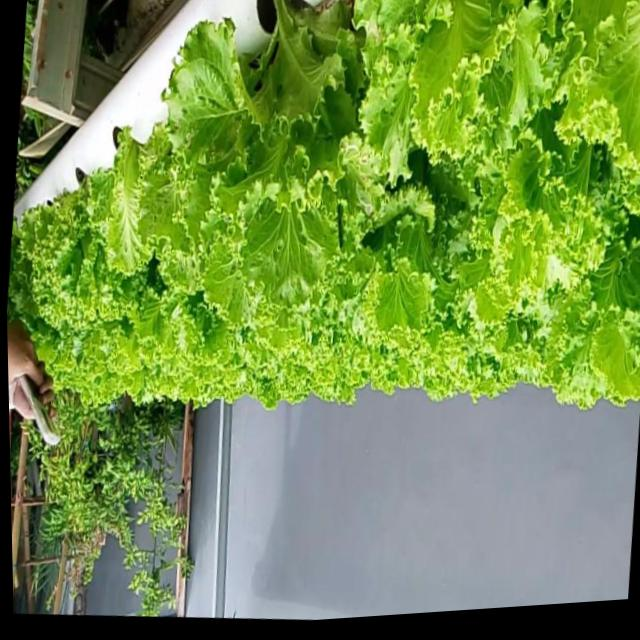Mature: (7, 0, 640, 408), (185, 0, 379, 293), (14, 145, 157, 359)
